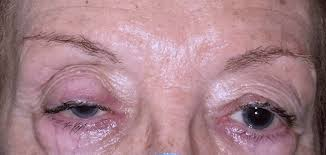PUFFY_EYES: (30, 62, 135, 151), (213, 70, 302, 155)
